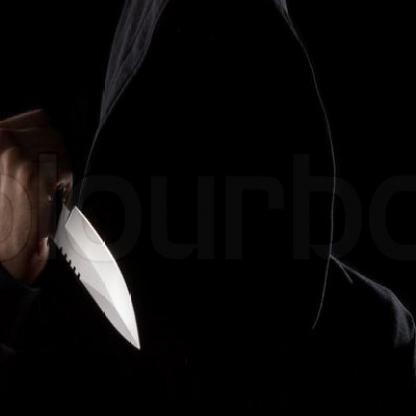knife: (0, 101, 146, 363)
